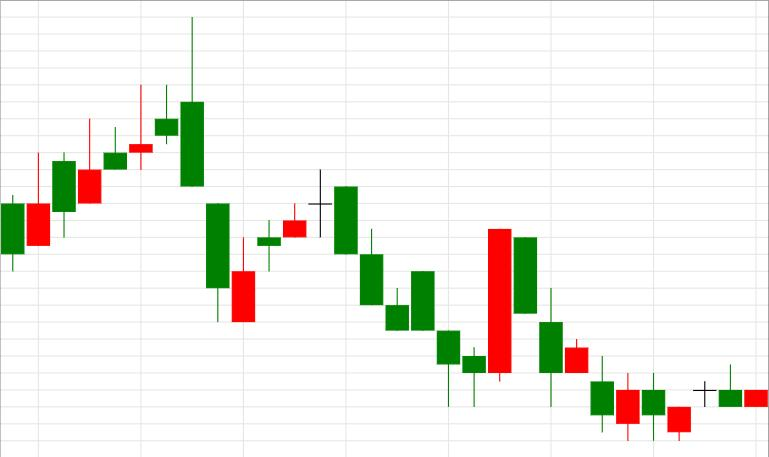hammer_rise: (334, 186, 460, 406)
